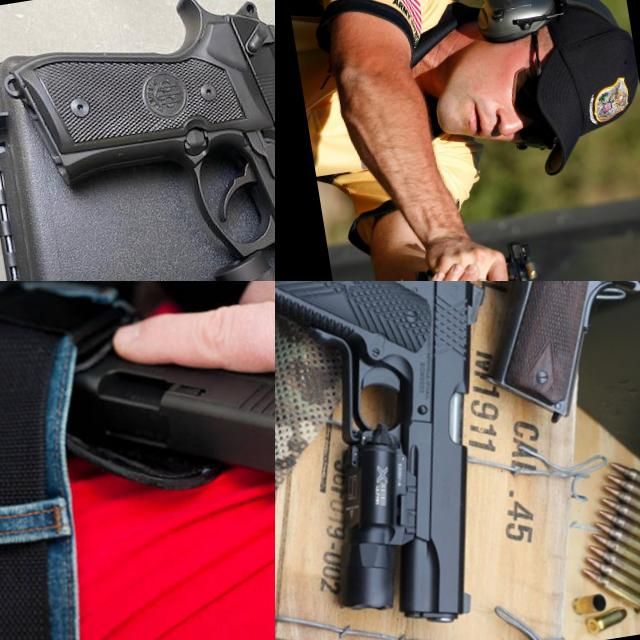handgun: (275, 281, 538, 640), (0, 0, 275, 281), (336, 281, 640, 494), (40, 297, 275, 536), (466, 233, 554, 281)
